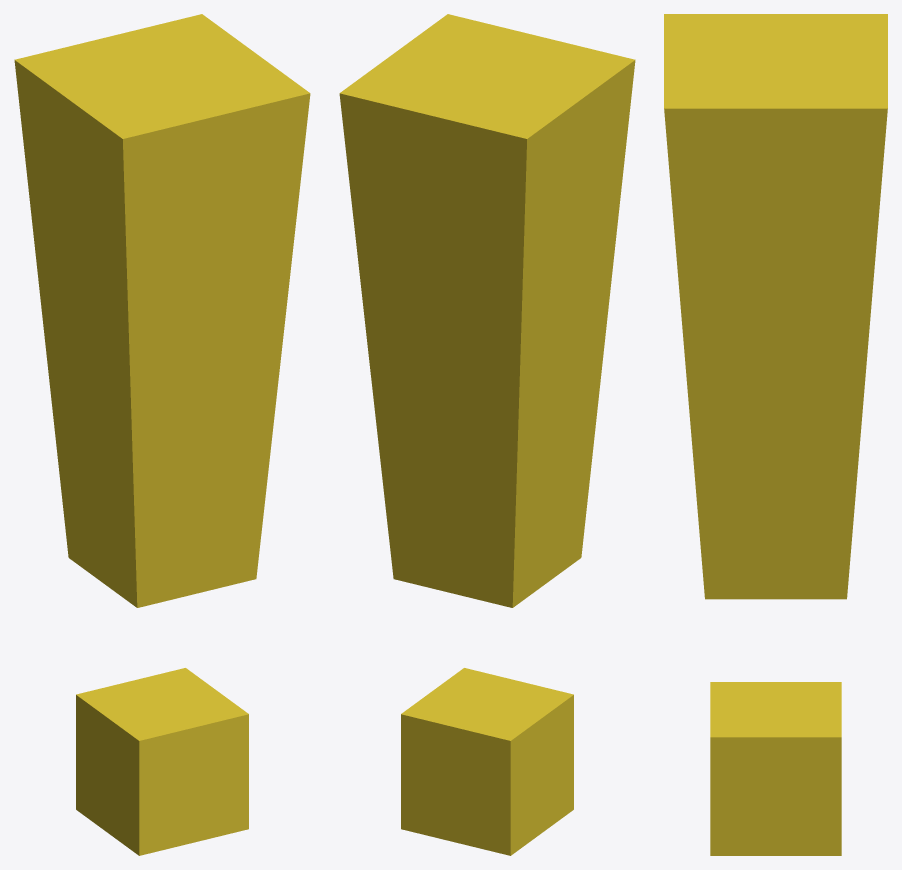
File: exclamationmark.fbx
The picture shows the model from 3 angles, left to right: view 1: azimuth 30°, elevation 25°; view 2: azimuth 150°, elevation 25°; view 3: azimuth 270°, elevation 25°; orthographic projection. The views are drawn at different scales.
Visible parts, largest first — view 1: Cube; view 2: Cube; view 3: Cube.
Part boxes in pixels (x1=…): Cube: x1=14, y1=14, x2=310, y2=855; Cube: x1=339, y1=14, x2=635, y2=855; Cube: x1=664, y1=14, x2=887, y2=855.
Size of the model in its own units: 342 by 1292 by 342.
